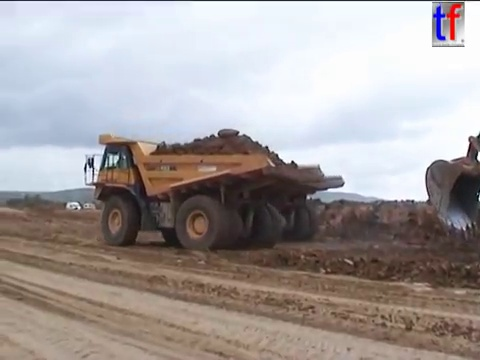excavator: (422, 127, 480, 235)
truck: (82, 131, 327, 254), (131, 145, 346, 246)
